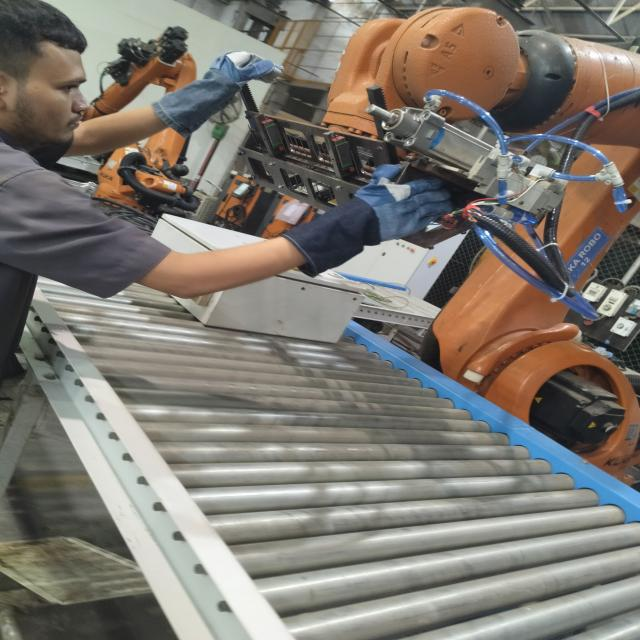Gloves-Detection: (300, 165, 440, 274), (147, 50, 276, 130)
